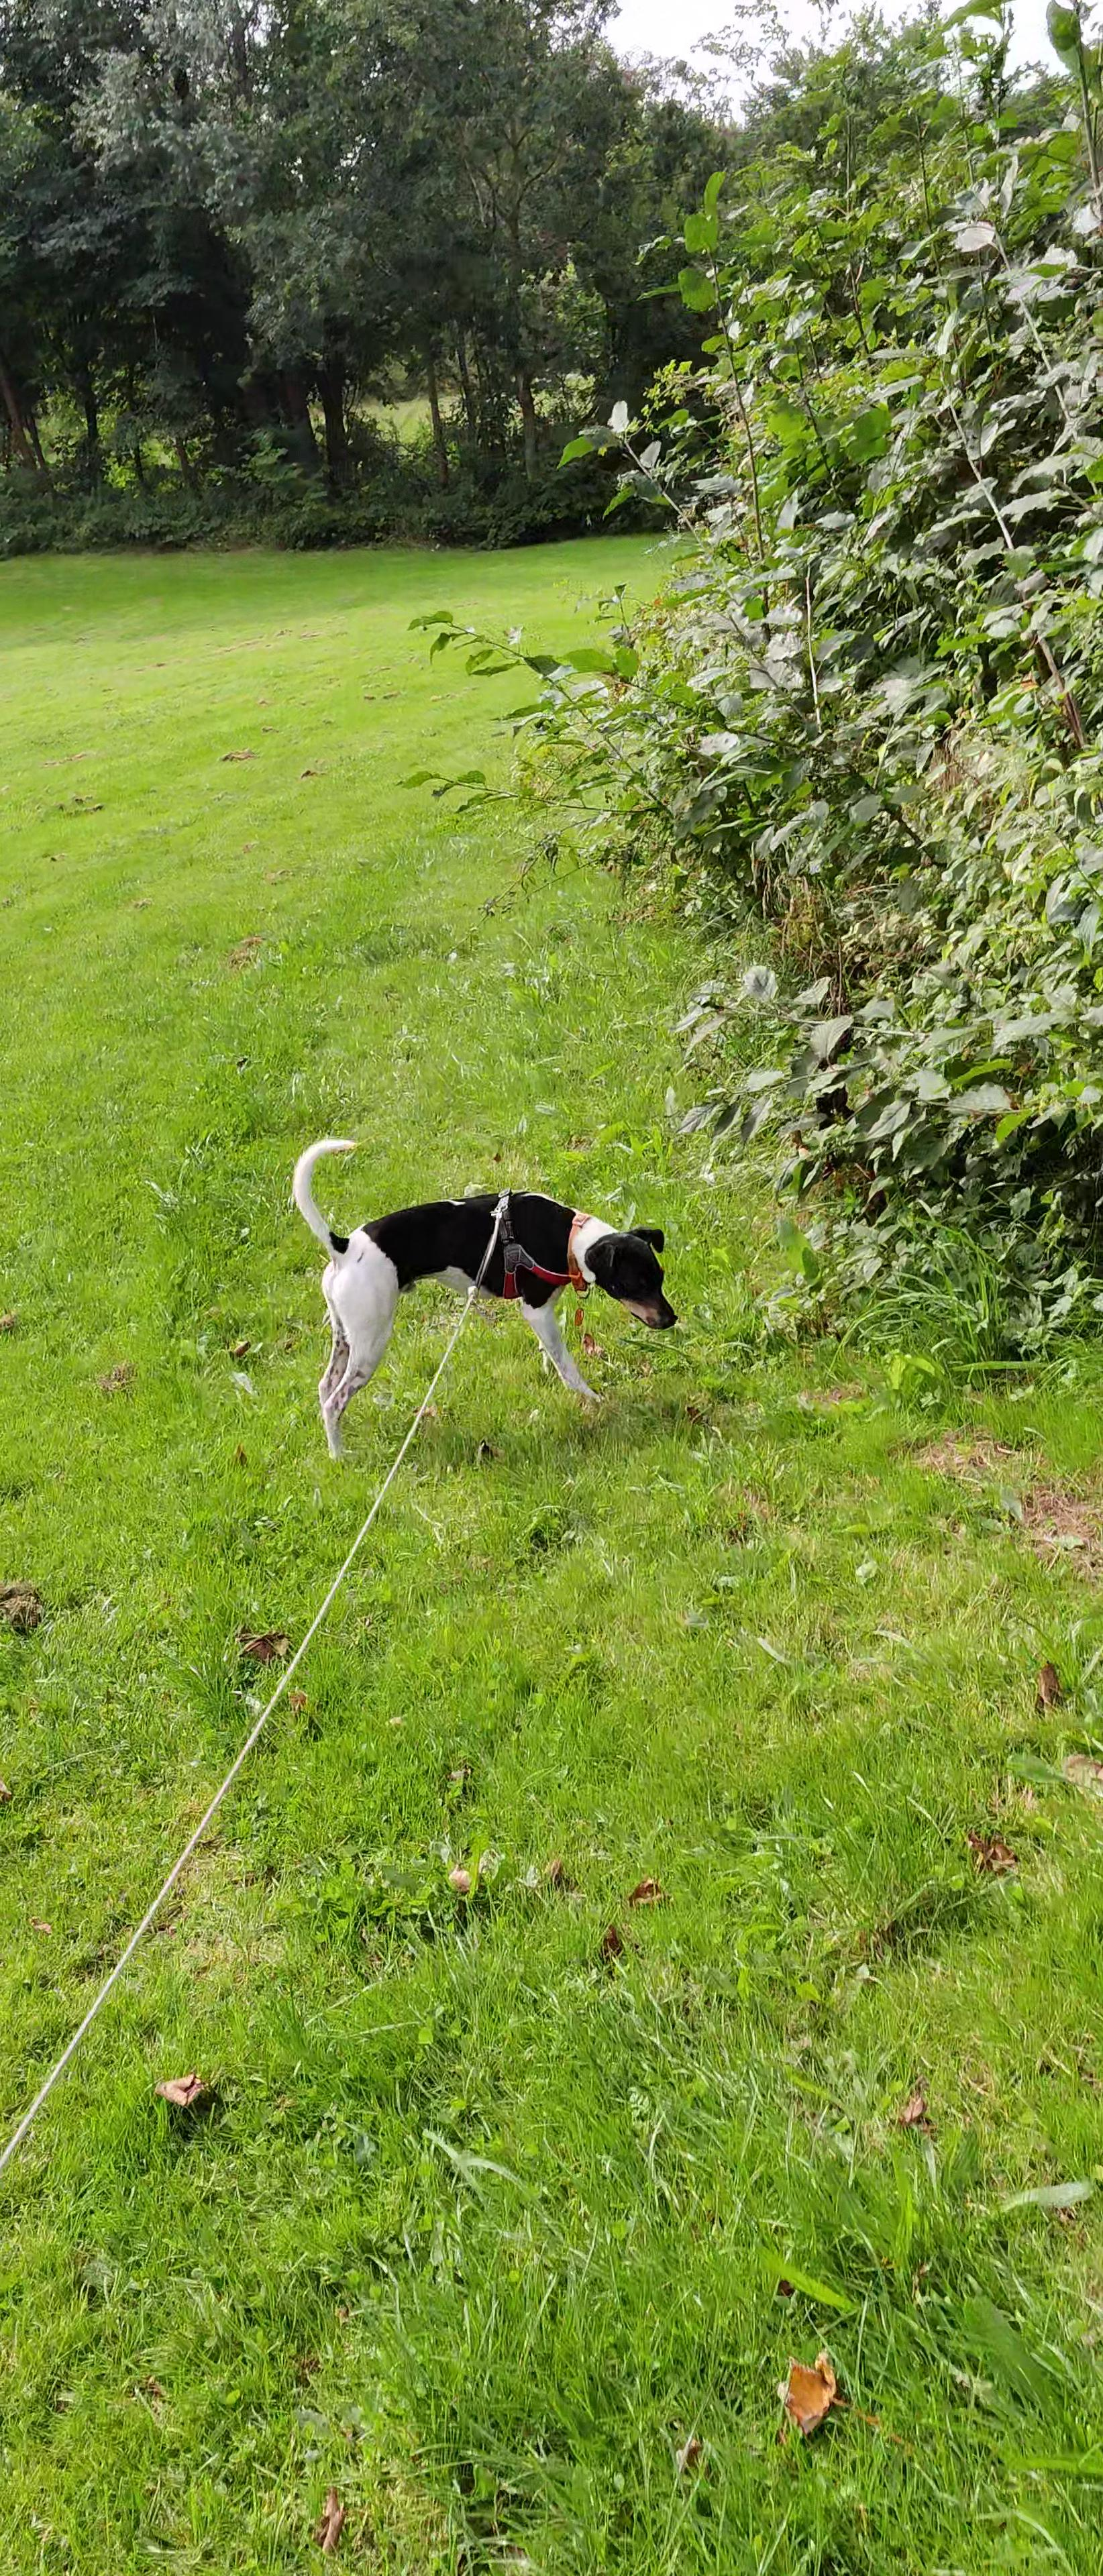Dog: (286, 1132, 682, 1459)
